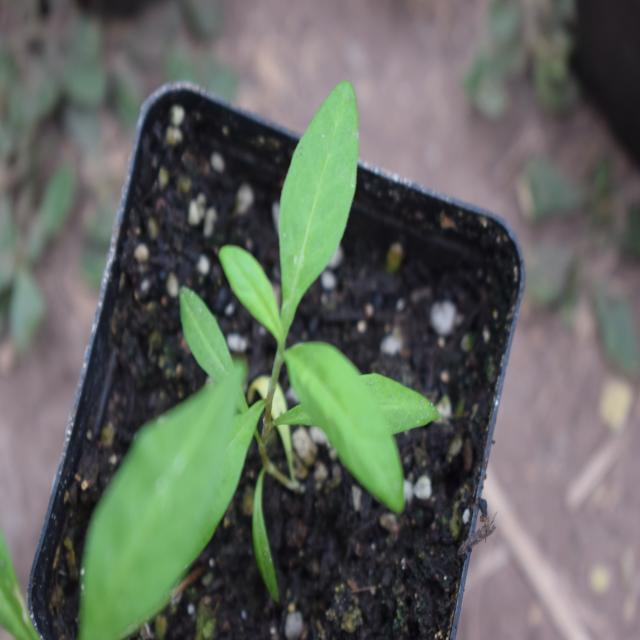white_smart_weed: (66, 44, 416, 610)
